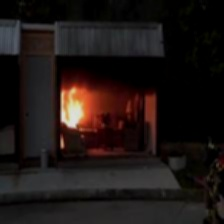fire: (55, 76, 89, 130)
